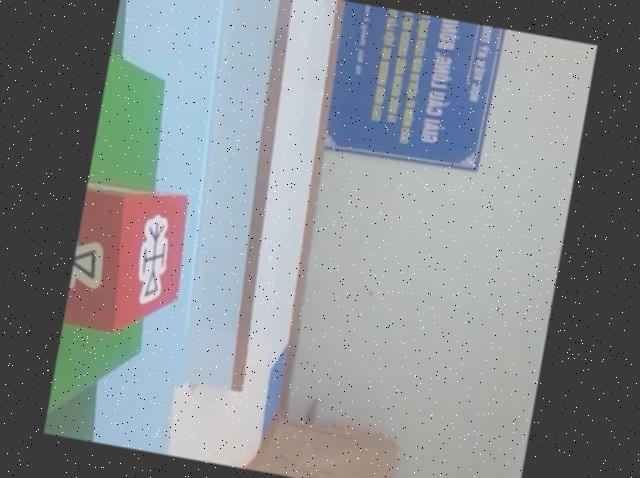R2 Real: (63, 178, 198, 343)
